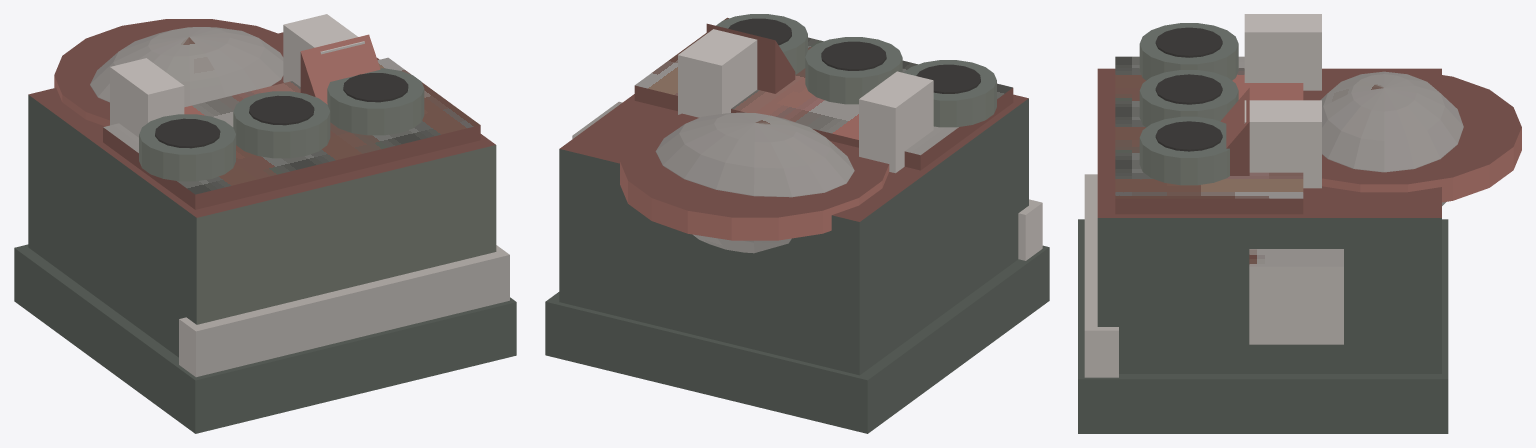
The model's file is Building_AncientRustedEngineBlock.glb.
3 renders of one model, left to right at view 1: azimuth 30°, elevation 25°; view 2: azimuth 150°, elevation 25°; view 3: azimuth 270°, elevation 25°, orthographic. The views are drawn at different scales.
Visible parts, largest first — view 1: AncientRustedEngineBlock; view 2: AncientRustedEngineBlock; view 3: AncientRustedEngineBlock.
Boxes of the visible parts, box(x1,y1,x2,y2) form: AncientRustedEngineBlock: box(14, 14, 516, 433); AncientRustedEngineBlock: box(545, 14, 1049, 433); AncientRustedEngineBlock: box(1078, 14, 1521, 433).
Bounding box in the file's own units: 0.9462 × 0.72 × 1.03.
Materials: 1 (1 with a texture image).
